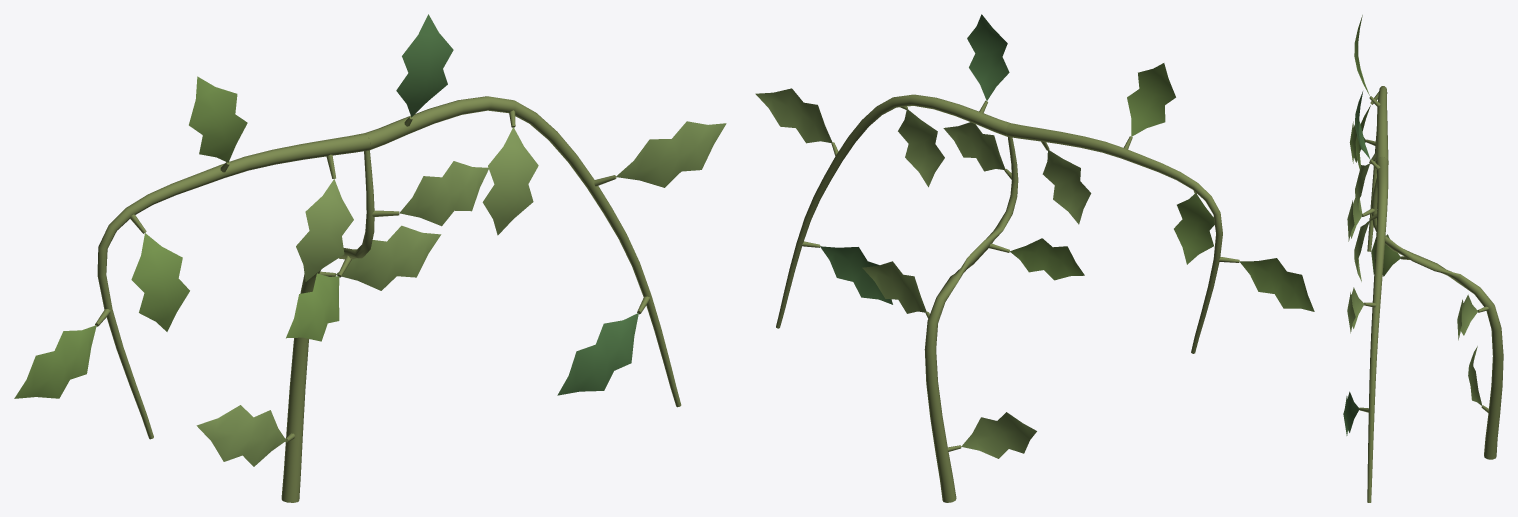
Rendered from 060_projecting_ledge_double_cascade_vine.glb.
The picture shows the model from 3 angles, left to right: view 1: azimuth 30°, elevation 25°; view 2: azimuth 150°, elevation 25°; view 3: azimuth 270°, elevation 25°; orthographic projection. The views are drawn at different scales.
Visible parts, largest first — view 1: VIN-060_leaves_right_cascade, VIN-060_leaves_left_cascade, VIN-060_leaves_ledge_parent, VIN-060_right_cascade, VIN-060_left_cascade, VIN-060_ledge_parent; view 2: VIN-060_leaves_left_cascade, VIN-060_leaves_right_cascade, VIN-060_leaves_ledge_parent, VIN-060_ledge_parent, VIN-060_right_cascade, VIN-060_left_cascade; view 3: VIN-060_ledge_parent, VIN-060_right_cascade, VIN-060_leaves_ledge_parent, VIN-060_leaves_right_cascade, VIN-060_left_cascade, VIN-060_leaves_left_cascade.
Boxes of the visible parts, left/top/right/bottom form: VIN-060_leaves_right_cascade: left=396, top=14, right=726, bottom=395; VIN-060_leaves_left_cascade: left=14, top=76, right=353, bottom=398; VIN-060_leaves_ledge_parent: left=196, top=161, right=489, bottom=466; VIN-060_right_cascade: left=365, top=96, right=681, bottom=407; VIN-060_left_cascade: left=97, top=133, right=370, bottom=439; VIN-060_ledge_parent: left=281, top=150, right=374, bottom=502; VIN-060_leaves_left_cascade: left=1042, top=63, right=1314, bottom=311; VIN-060_leaves_right_cascade: left=755, top=14, right=1009, bottom=304; VIN-060_leaves_ledge_parent: left=862, top=122, right=1084, bottom=458; VIN-060_ledge_parent: left=924, top=137, right=1018, bottom=502; VIN-060_right_cascade: left=776, top=94, right=1009, bottom=328; VIN-060_left_cascade: left=1006, top=123, right=1222, bottom=353; VIN-060_ledge_parent: left=1371, top=178, right=1503, bottom=459; VIN-060_right_cascade: left=1367, top=156, right=1388, bottom=502; VIN-060_leaves_ledge_parent: left=1347, top=197, right=1482, bottom=405; VIN-060_leaves_right_cascade: left=1343, top=91, right=1370, bottom=435; VIN-060_left_cascade: left=1367, top=86, right=1388, bottom=251; VIN-060_leaves_left_cascade: left=1349, top=15, right=1370, bottom=213.
Bounding box in the file's own units: 2.7 × 1.96 × 0.742.
